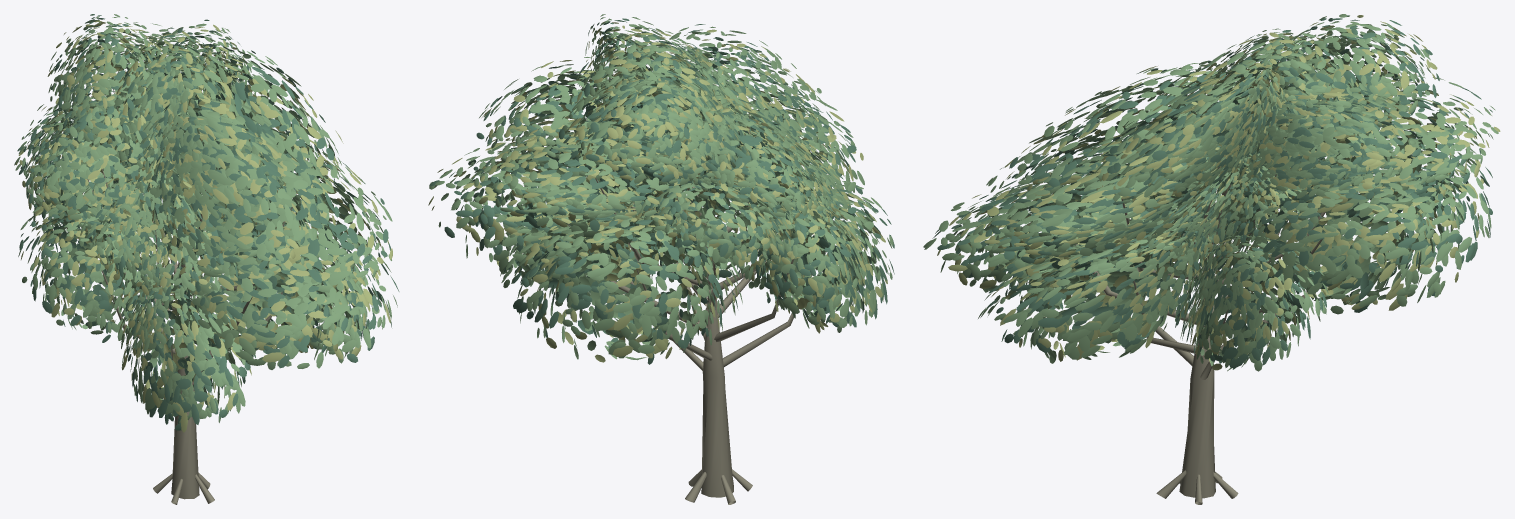
File: grove_9.glb
3 renders of one model, left to right at view 1: azimuth 30°, elevation 25°; view 2: azimuth 150°, elevation 25°; view 3: azimuth 270°, elevation 25°, orthographic. The views are drawn at different scales.
Visible parts, largest first — view 1: study_canopy_0_StudyLeafJade, study_canopy_0_StudyLeafDeep, study_canopy_0_StudyLeafGold, study_canopy_0_StudyBark; view 2: study_canopy_0_StudyLeafJade, study_canopy_0_StudyLeafDeep, study_canopy_0_StudyLeafGold, study_canopy_0_StudyBark; view 3: study_canopy_0_StudyLeafJade, study_canopy_0_StudyLeafDeep, study_canopy_0_StudyLeafGold, study_canopy_0_StudyBark.
Boxes of the visible parts, x1=… form: study_canopy_0_StudyLeafJade: x1=14, y1=14, x2=397, y2=422; study_canopy_0_StudyLeafDeep: x1=17, y1=14, x2=399, y2=430; study_canopy_0_StudyLeafGold: x1=15, y1=20, x2=392, y2=432; study_canopy_0_StudyBark: x1=87, y1=89, x2=292, y2=504; study_canopy_0_StudyLeafJade: x1=429, y1=14, x2=893, y2=360; study_canopy_0_StudyLeafDeep: x1=430, y1=18, x2=894, y2=364; study_canopy_0_StudyLeafGold: x1=428, y1=21, x2=887, y2=362; study_canopy_0_StudyBark: x1=568, y1=114, x2=811, y2=504; study_canopy_0_StudyLeafJade: x1=923, y1=14, x2=1498, y2=371; study_canopy_0_StudyLeafDeep: x1=932, y1=15, x2=1492, y2=369; study_canopy_0_StudyLeafGold: x1=937, y1=15, x2=1500, y2=370; study_canopy_0_StudyBark: x1=1074, y1=84, x2=1360, y2=504.
Size of the model in its own units: 7.37 by 9.87 by 10.84.
